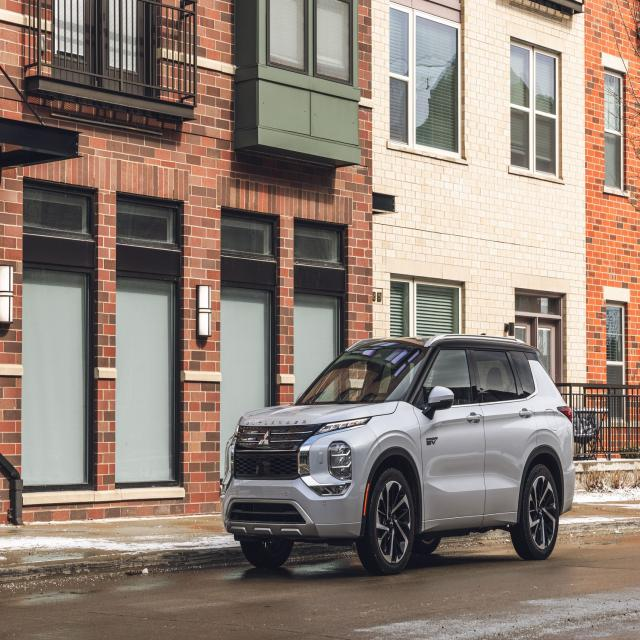light_vehicle: (219, 333, 576, 576)
